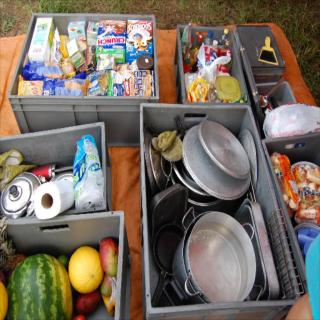Watermelon: (6, 255, 72, 319)
